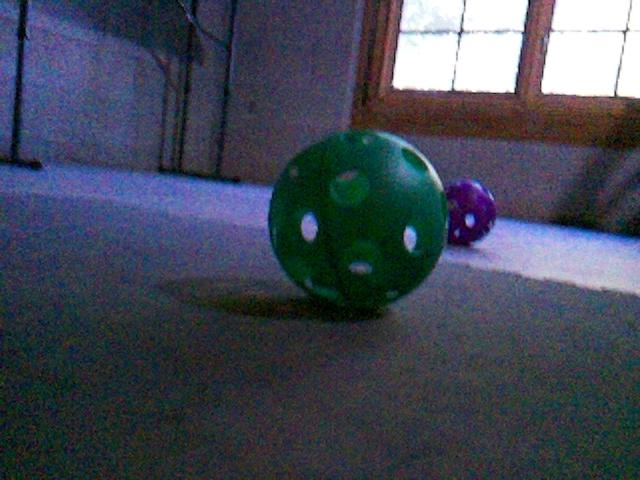Green: (265, 128, 446, 310)
Purple: (443, 178, 498, 245)
